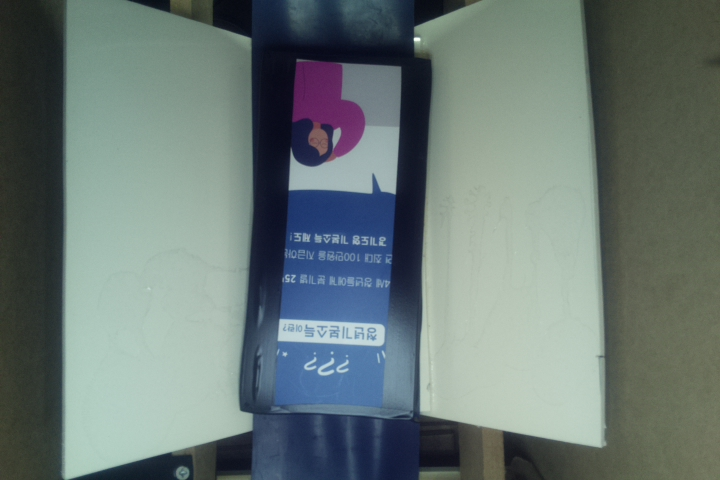book: (239, 50, 435, 425)
